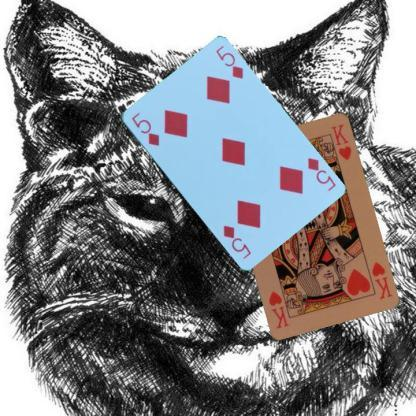5d: (304, 155, 337, 192), (128, 110, 160, 147)
Kh: (368, 258, 393, 300)
